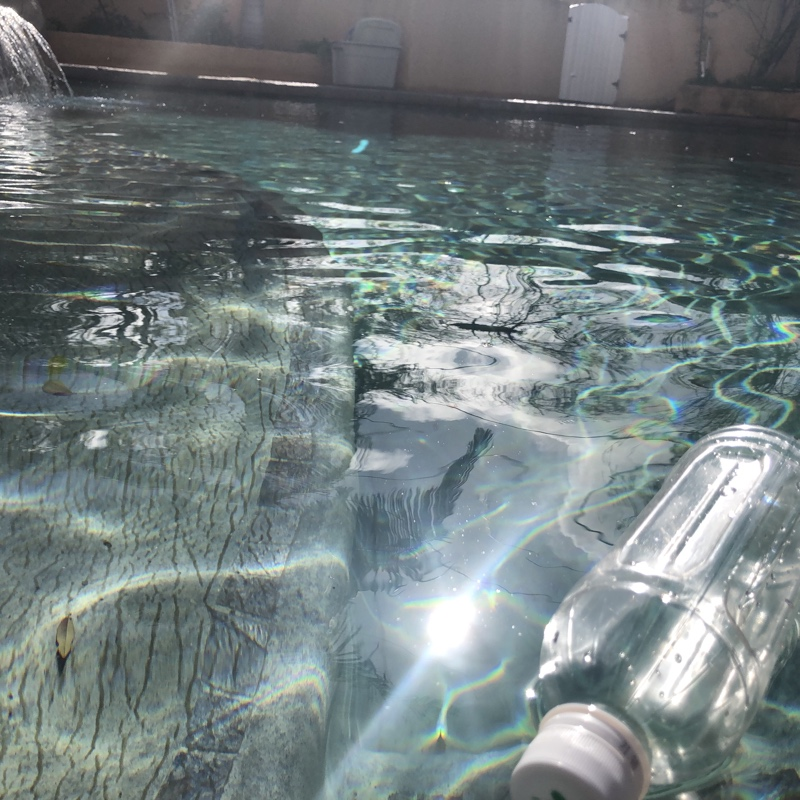Plastic Bottle: (490, 418, 800, 800)
